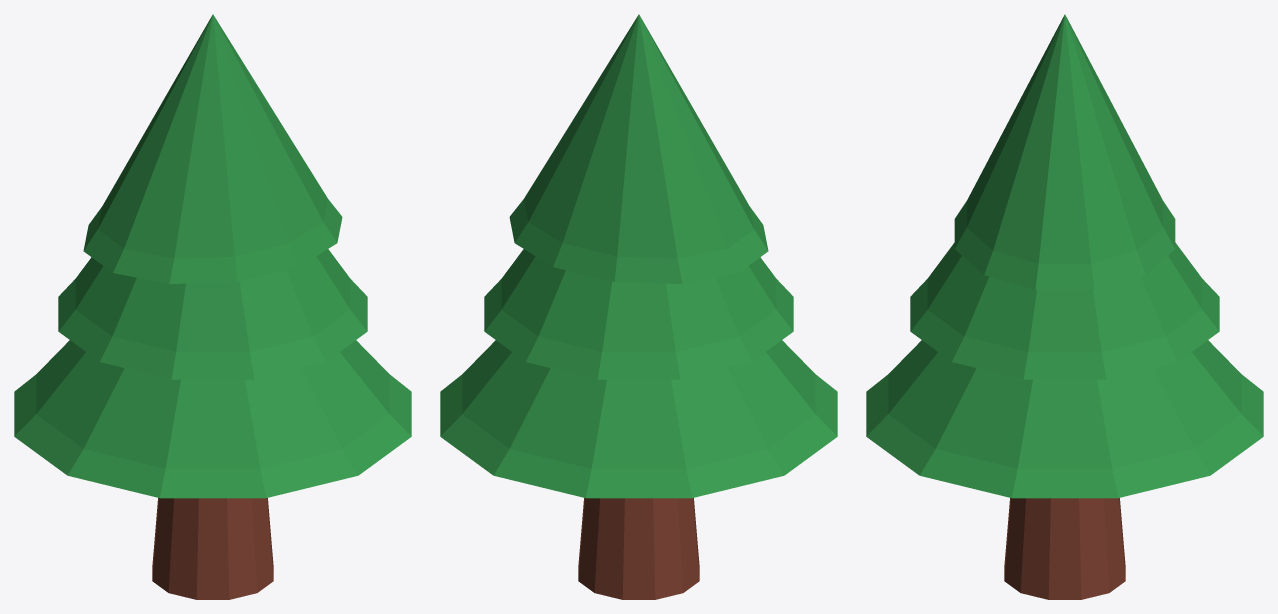
File: pinetree1.glb
The picture shows the model from 3 angles, left to right: view 1: azimuth 30°, elevation 25°; view 2: azimuth 150°, elevation 25°; view 3: azimuth 270°, elevation 25°; orthographic projection.
Parts seen in each view (by area): view 1: cone; view 2: cone; view 3: cone.
Boxes of the visible parts, left/top/right/bottom form: cone: left=14, top=14, right=411, bottom=599; cone: left=440, top=14, right=837, bottom=599; cone: left=866, top=14, right=1263, bottom=599.
Bounding box in the file's own units: 1.12 × 1.75 × 1.12.
Materials: 1 (1 with a texture image).
